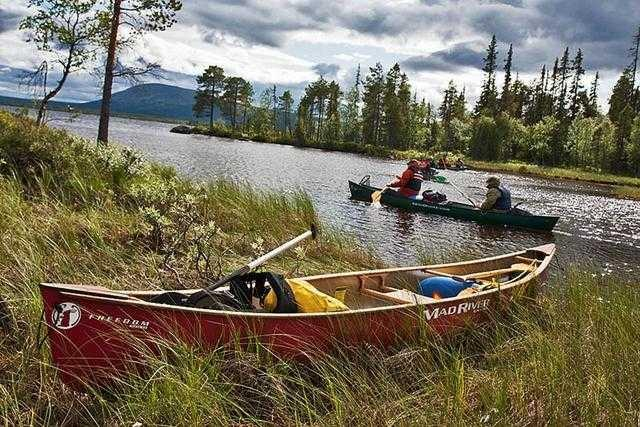kayak: (38, 226, 560, 395), (348, 175, 559, 233)
